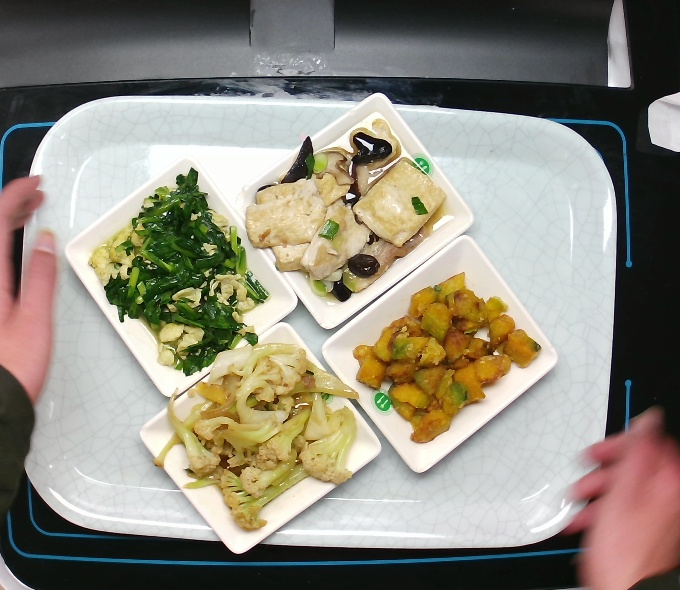wcq-DanHuangNanGua: (344, 270, 556, 450)
wcq-JiaChangDouFu: (238, 118, 448, 303)
wcq-JiuCaiJiDan: (86, 168, 270, 374)
wcq-QiuCai: (155, 339, 366, 531)
